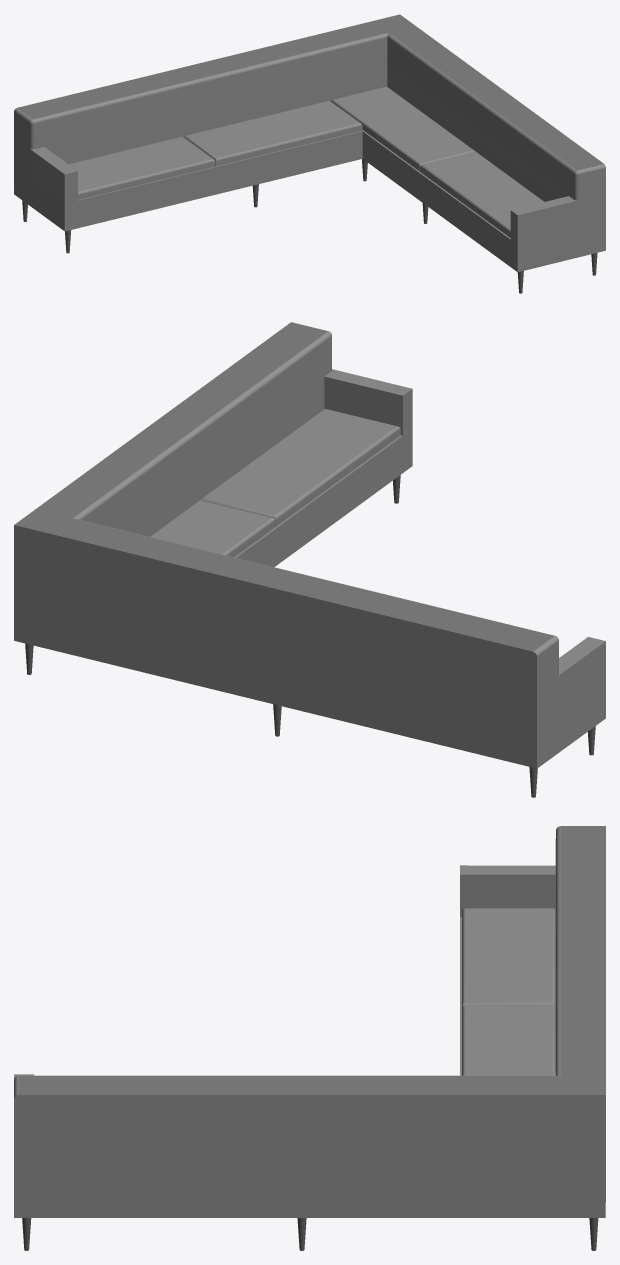
The model's file is Finished_Sofa.fbx.
3 renders of one model, top to bottom at view 1: azimuth 30°, elevation 25°; view 2: azimuth 150°, elevation 25°; view 3: azimuth 270°, elevation 25°, orthographic. The views are drawn at different scales.
Parts seen in each view (by area): view 1: Sofa2; view 2: Sofa2; view 3: Sofa2.
Part boxes in pixels (x1,y1,x2,y2): Sofa2: (14,14,605,293); Sofa2: (14,322,605,797); Sofa2: (14,826,605,1250).
Size of the model in its own units: 12.66 by 3.49 by 11.7.
